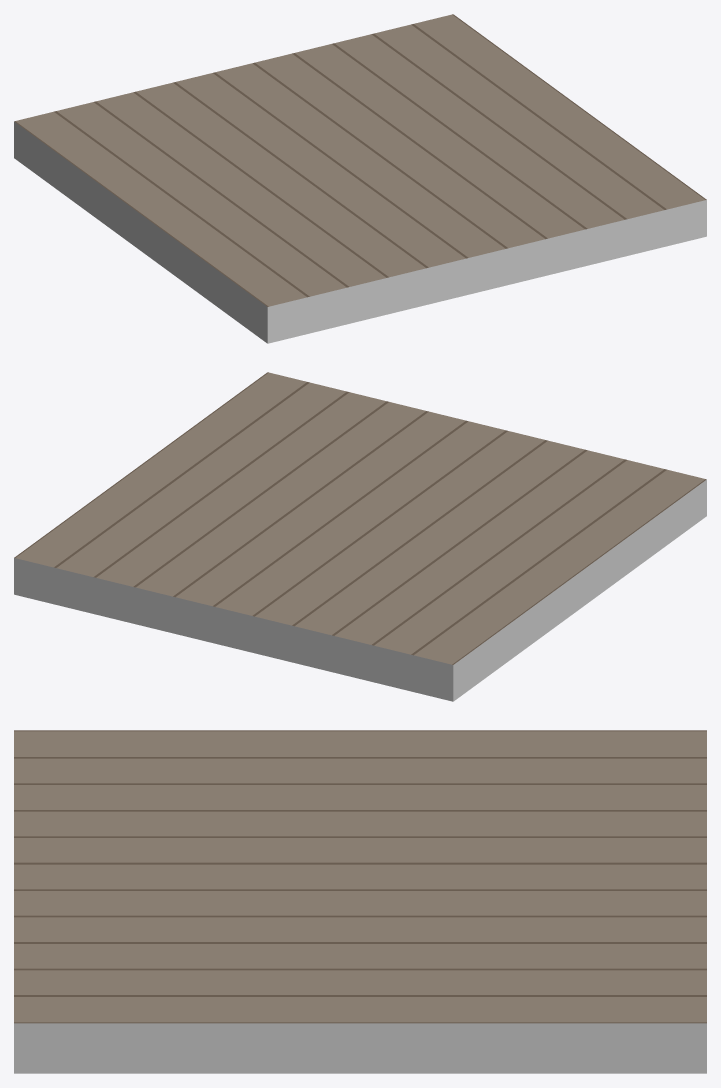
Rendered from Floor5_01.fbx.
3 renders of one model, top to bottom at view 1: azimuth 30°, elevation 25°; view 2: azimuth 150°, elevation 25°; view 3: azimuth 270°, elevation 25°, orthographic. The views are drawn at different scales.
Parts seen in each view (by area): view 1: Floor5_01; view 2: Floor5_01; view 3: Floor5_01.
Boxes of the visible parts, <box> form: Floor5_01: <box>14,14,706,343</box>; Floor5_01: <box>14,372,706,701</box>; Floor5_01: <box>14,730,706,1073</box>.
Size of the model in its own units: 250 by 20 by 250.
